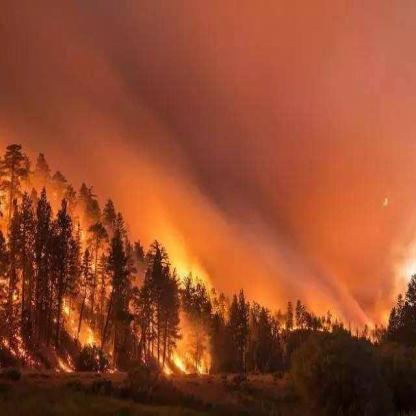fire: (134, 306, 215, 377), (51, 288, 116, 375), (1, 276, 41, 371), (163, 233, 211, 302), (359, 300, 404, 344)
